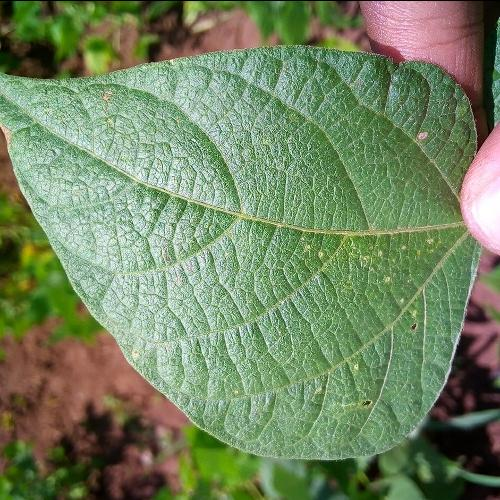sehat: (148, 74, 424, 362)
